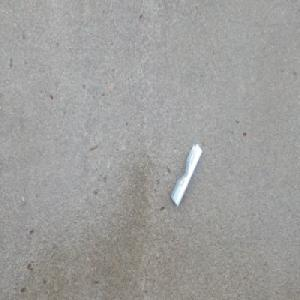ClampPart: (170, 142, 203, 208)
